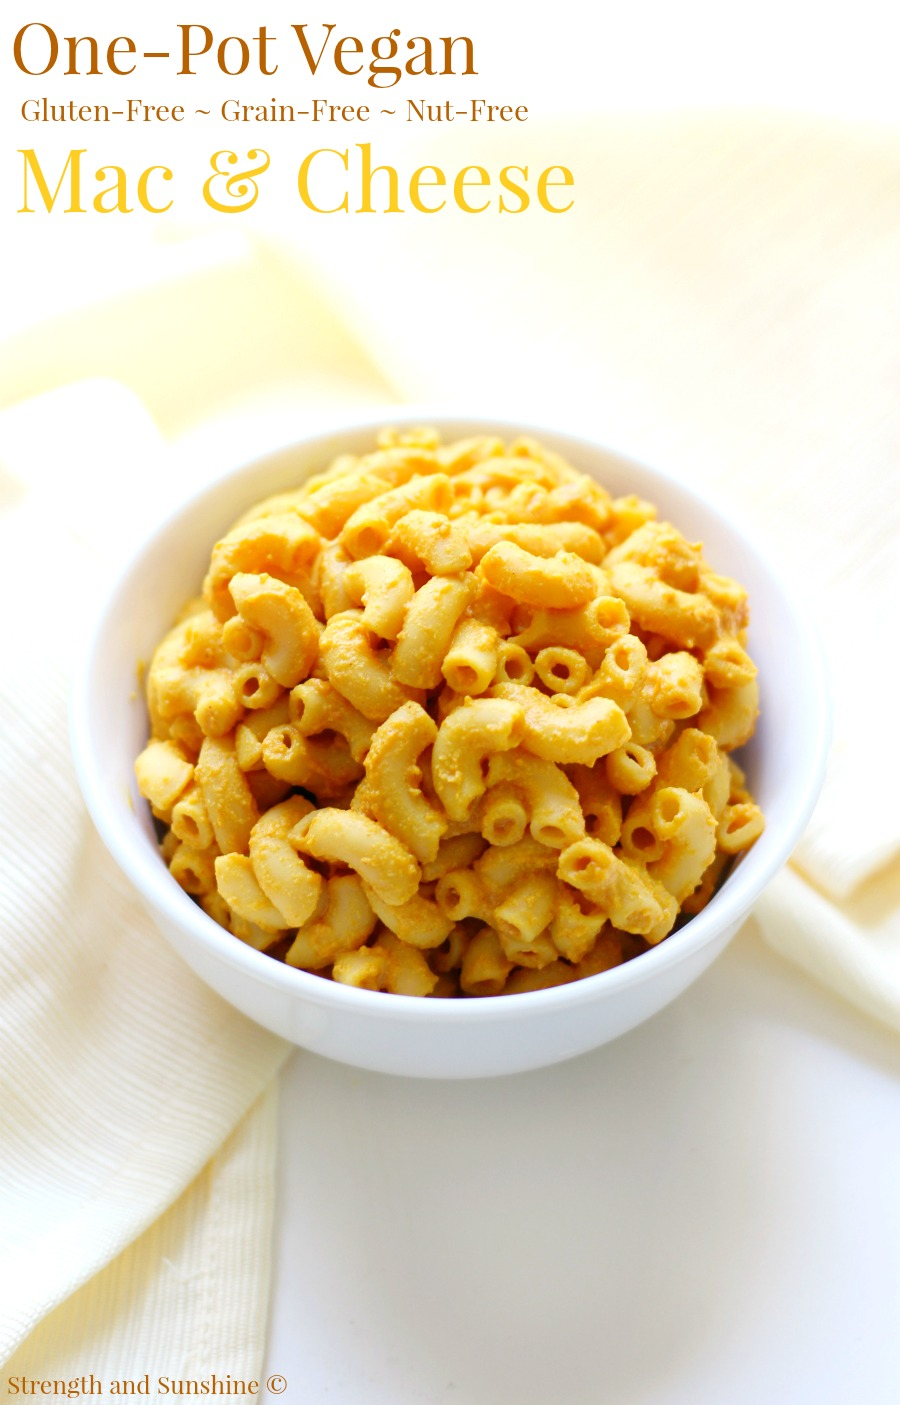macncheese: (108, 401, 830, 1053)
